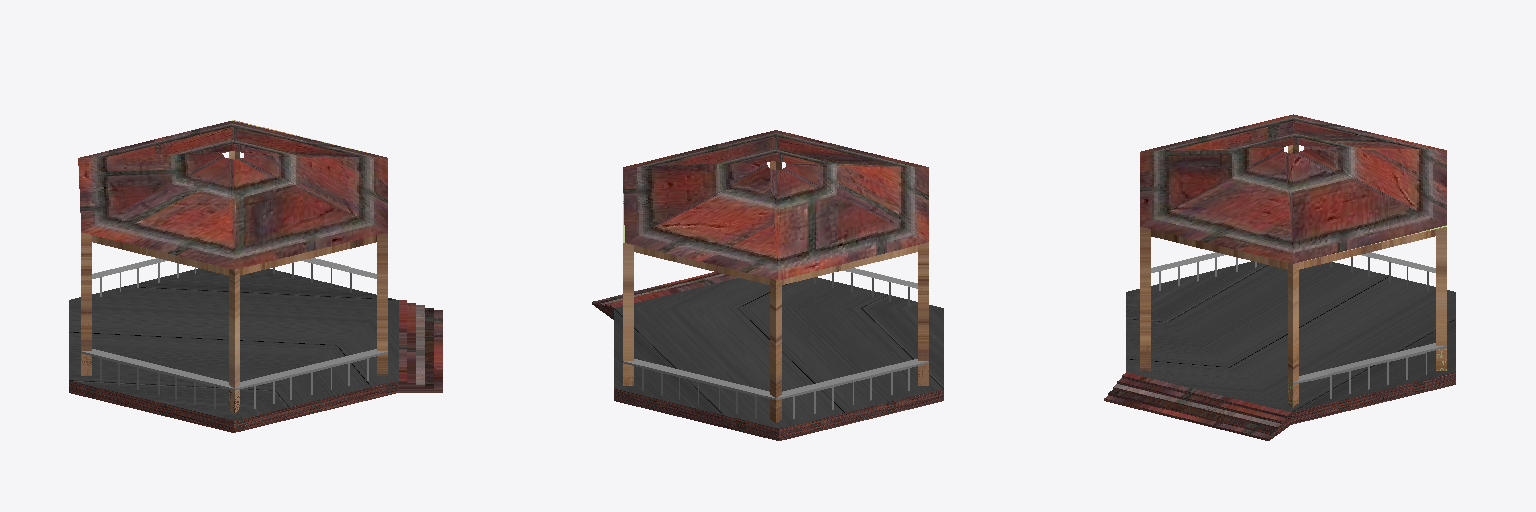
3 views of the same model, side by side, from view 1: azimuth 30°, elevation 25°; view 2: azimuth 150°, elevation 25°; view 3: azimuth 270°, elevation 25° (orthographic).
Visible parts, largest first — view 1: Cylinder002; view 2: Cylinder002; view 3: Cylinder002.
Boxes of the visible parts, box(x1,y1,x2,y2) form: Cylinder002: box(69, 120, 442, 432); Cylinder002: box(592, 130, 943, 440); Cylinder002: box(1104, 114, 1455, 440).
Bounding box in the file's own units: 75.74 × 39.63 × 63.58.
5 materials, 3 textured.